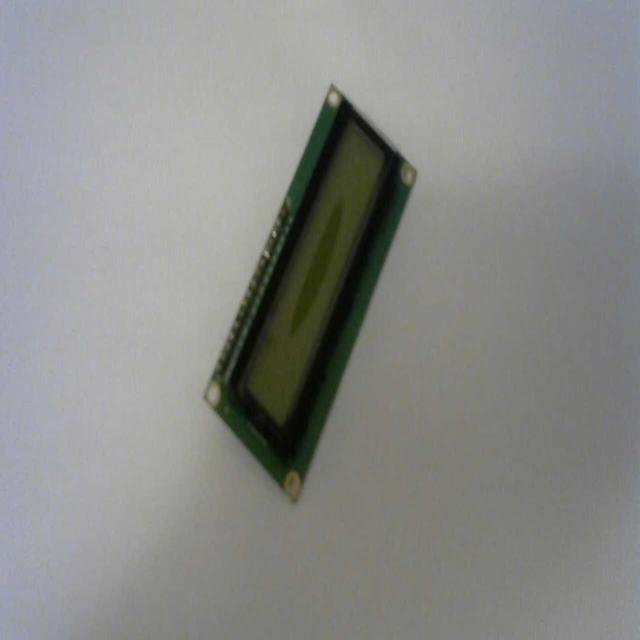lcd: (202, 81, 418, 503)
